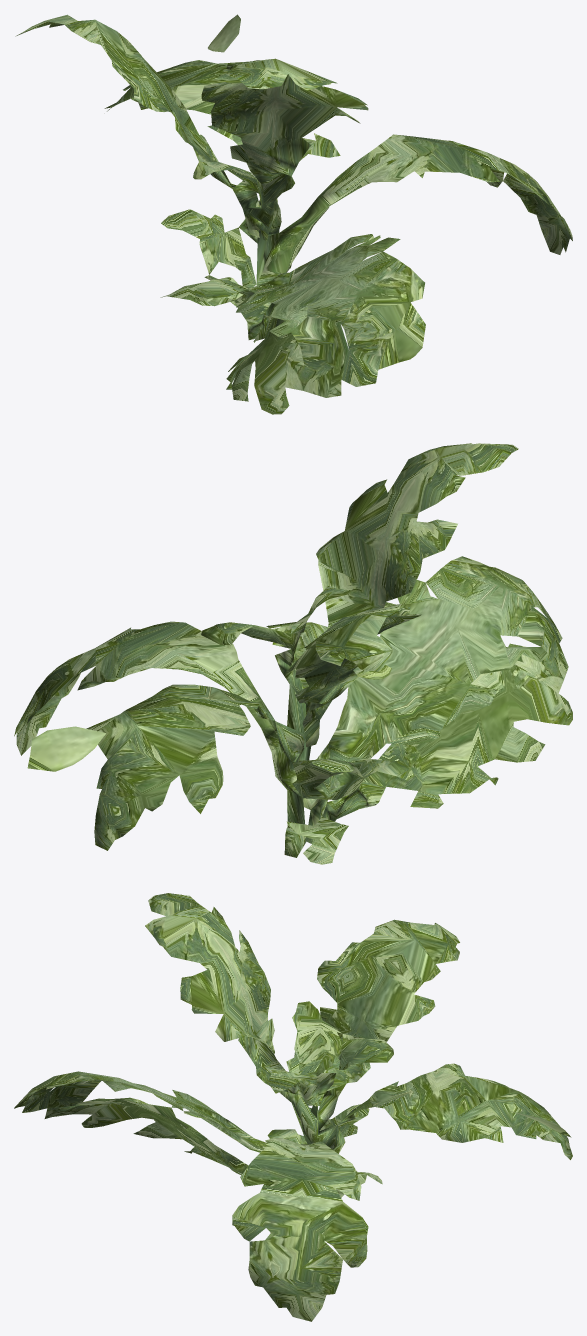
File: lingcao_ninglu_young.obj
3 renders of one model, top to bottom at view 1: azimuth 30°, elevation 25°; view 2: azimuth 150°, elevation 25°; view 3: azimuth 270°, elevation 25°, orthographic. The views are drawn at different scales.
Parts seen in each view (by area): view 1: lingcao_ninglu_young; view 2: lingcao_ninglu_young; view 3: lingcao_ninglu_young.
Boxes of the visible parts, box(x1,y1,x2,y2) form: lingcao_ninglu_young: box(15, 14, 572, 414); lingcao_ninglu_young: box(14, 443, 572, 864); lingcao_ninglu_young: box(14, 893, 572, 1321).
Bounding box in the file's own units: 0.2106 × 0.1607 × 0.2795.
Materials: 1 (1 with a texture image).
